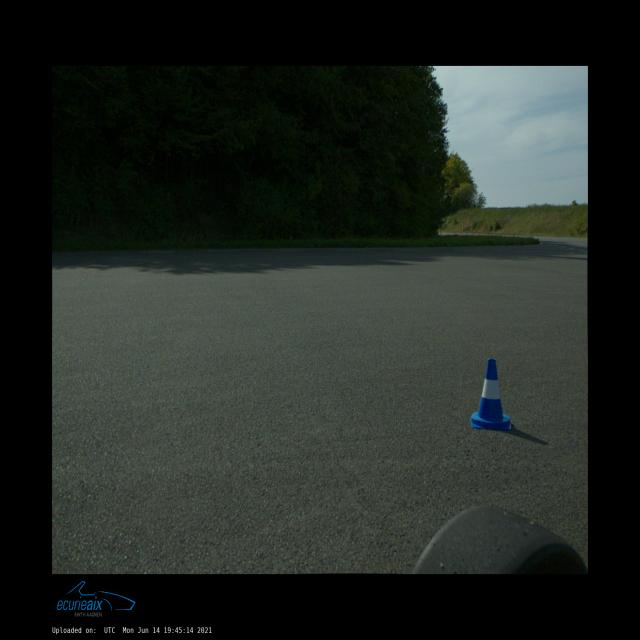blue_cone: (470, 359, 510, 429)
